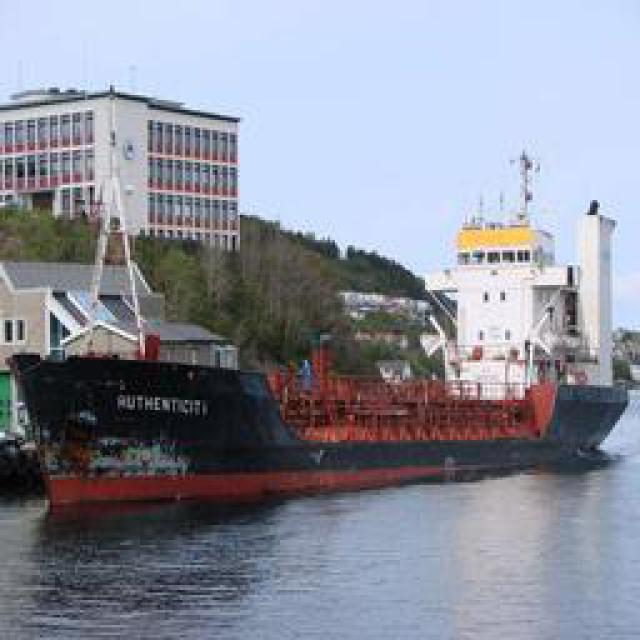Ship: (14, 355, 627, 523)
